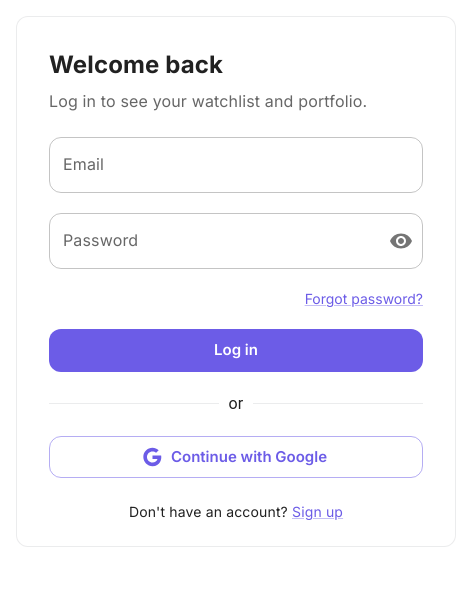
Test: LoginPage › shows validation errors when submitted empty
Click the button "Log in".
click(236, 351)  # box [49,329,423,372]
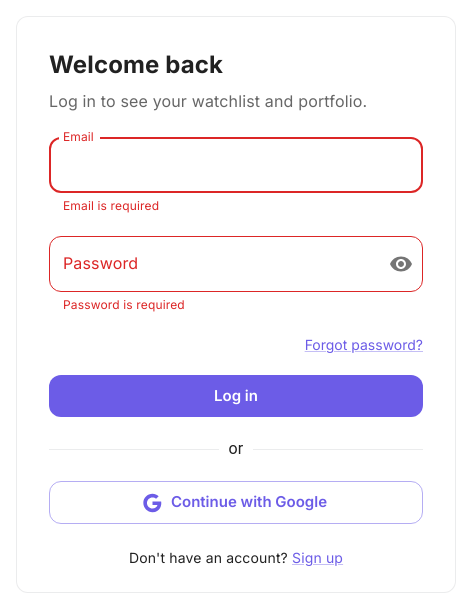
Now the text "Email is required" is shown, box [63,198,159,213]
Now the text "Password is required" is shown, box [63,297,185,312]
